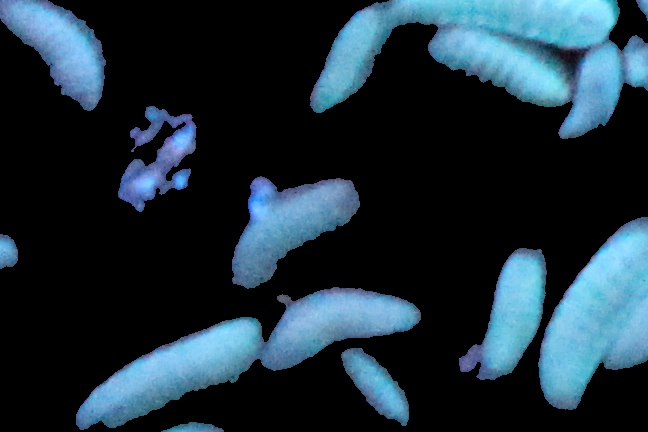larvae: (71, 316, 261, 432), (535, 221, 648, 410), (231, 182, 361, 289), (263, 291, 416, 374), (1, 1, 102, 114), (429, 31, 568, 109), (393, 1, 618, 45), (308, 2, 385, 115), (482, 252, 537, 372), (560, 47, 621, 144), (340, 352, 408, 429)
